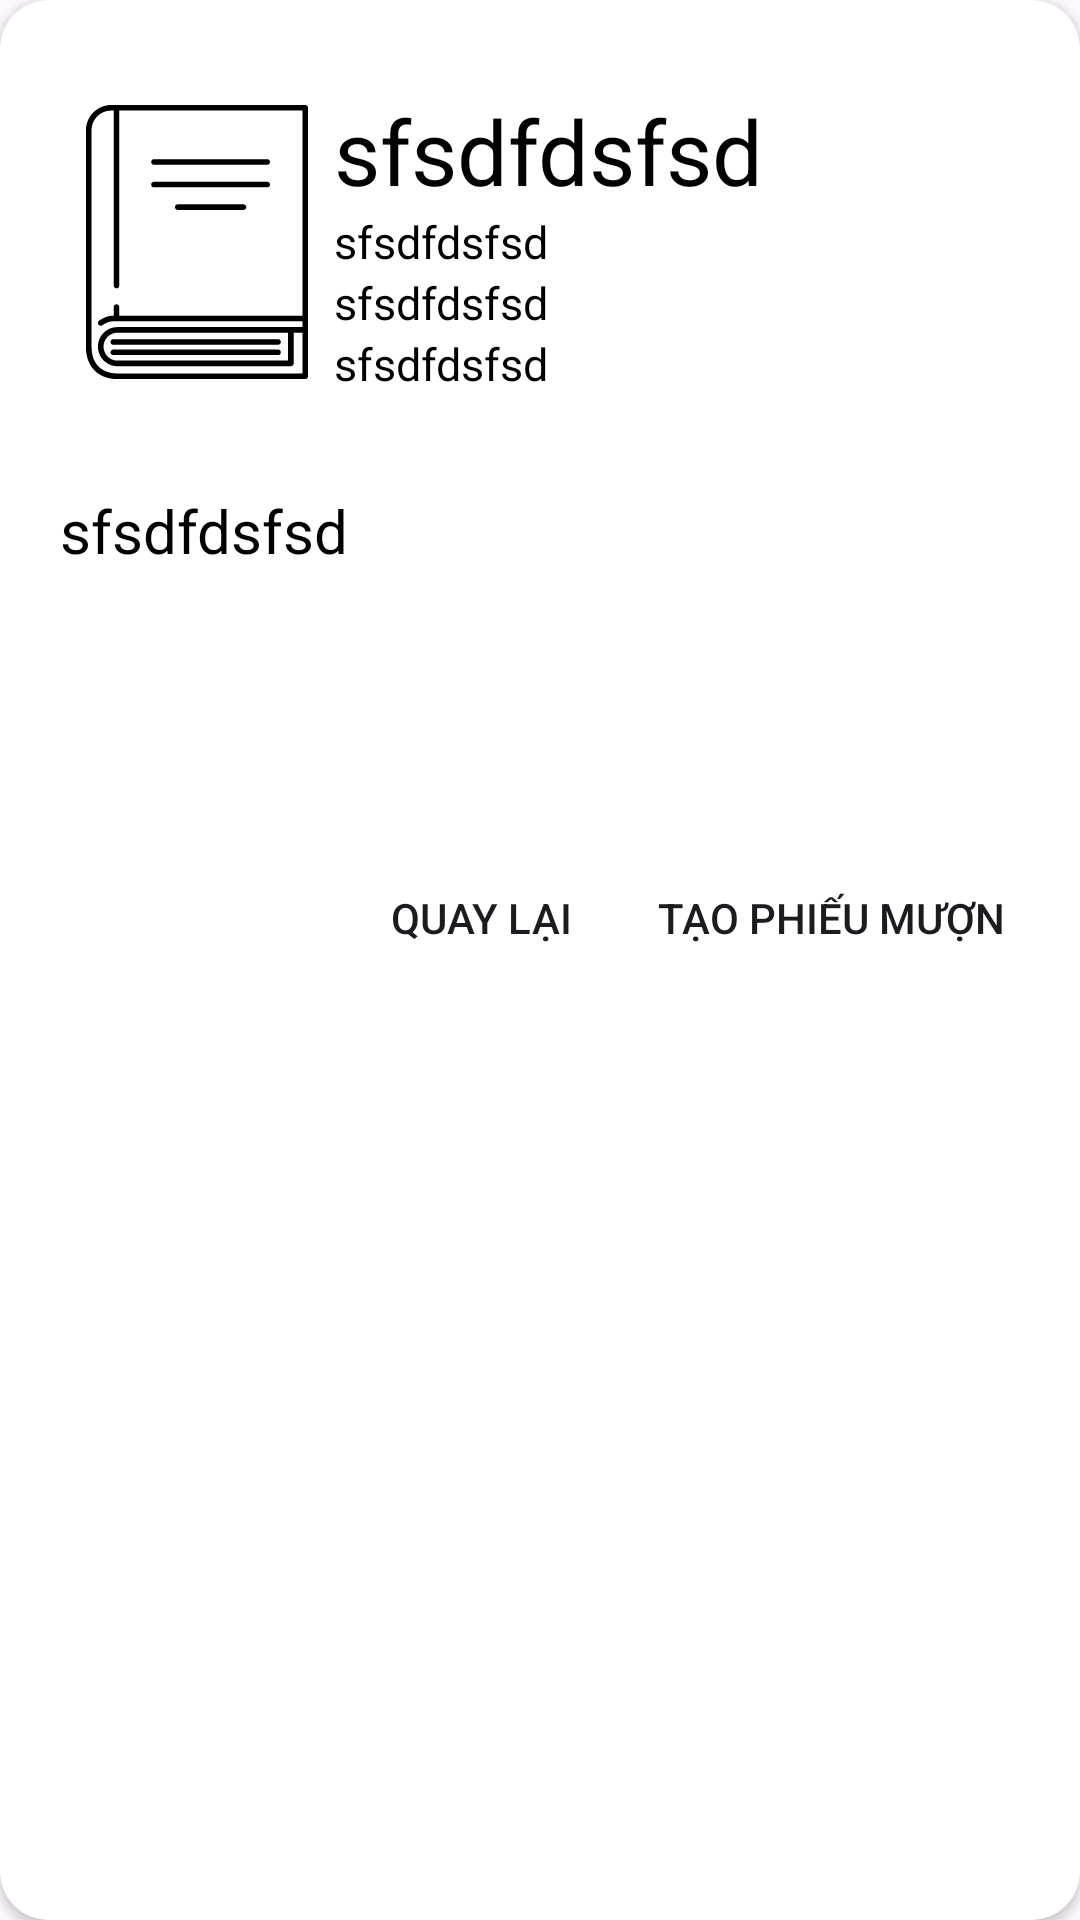

Icon bounding boxes for this 1080w x 1920h phone screenshot, format (x1, y1, x2, y2):
book: (86, 105, 308, 379)
